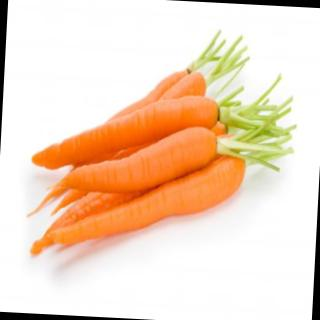Wortel: (32, 88, 222, 182), (58, 121, 219, 202)
